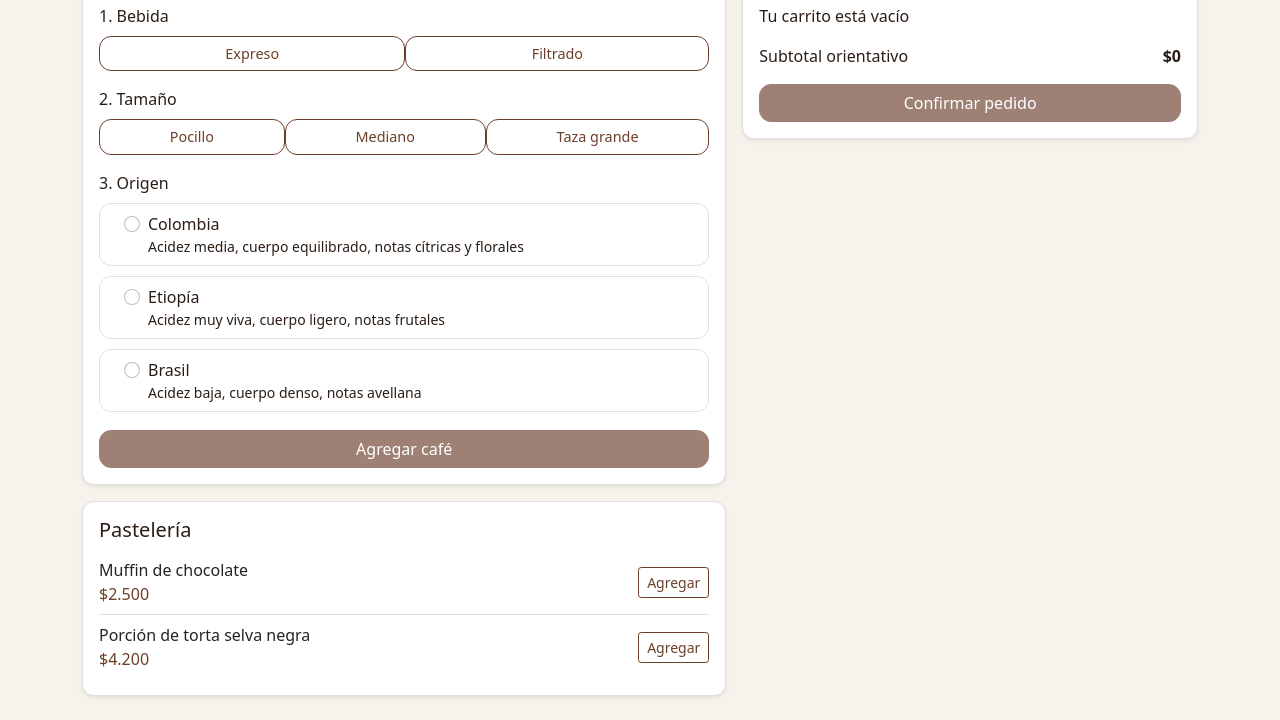
Test: muestra en el minicart el producto agregado desde el catálogo
(page scrolled)
Click the button with aria-label "Agregar Muffin de chocolate" at (674,582), box 638,566 -> 709,598
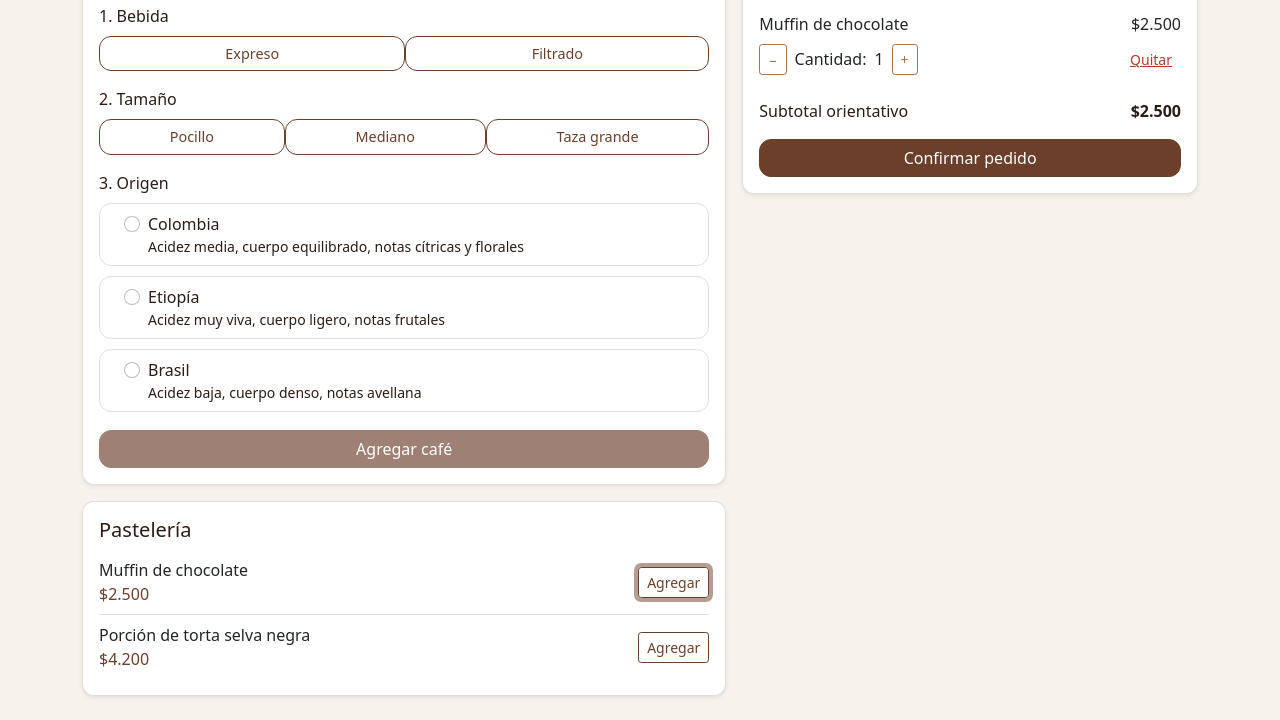
Check: the text "Muffin de chocolate" is shown, box 759,12 -> 908,36
Check: the text "1" is shown, box 874,47 -> 884,71
Check: the button "Confirmar pedido" is enabled, box 759,139 -> 1181,177
